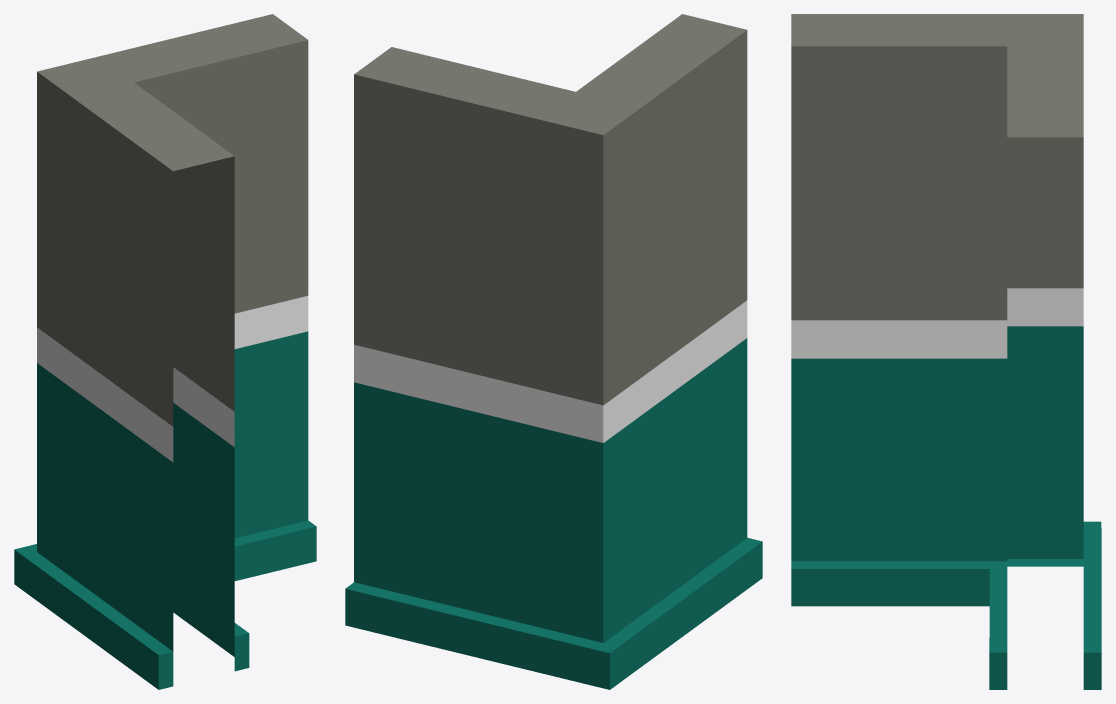
File: IndoorWallCorner.fbx
3 renders of one model, left to right at view 1: azimuth 30°, elevation 25°; view 2: azimuth 150°, elevation 25°; view 3: azimuth 270°, elevation 25°, orthographic. The views are drawn at different scales.
Visible parts, largest first — view 1: IndoorWall_Inner; view 2: IndoorWall_Inner; view 3: IndoorWall_Inner.
Boxes of the visible parts, box(x1,y1,x2,y2) form: IndoorWall_Inner: box(14, 14, 316, 689); IndoorWall_Inner: box(345, 14, 762, 689); IndoorWall_Inner: box(791, 14, 1101, 689).
Bounding box in the file's own units: 1.22 × 1.22 × 2.4.
1 material, 1 textured.
